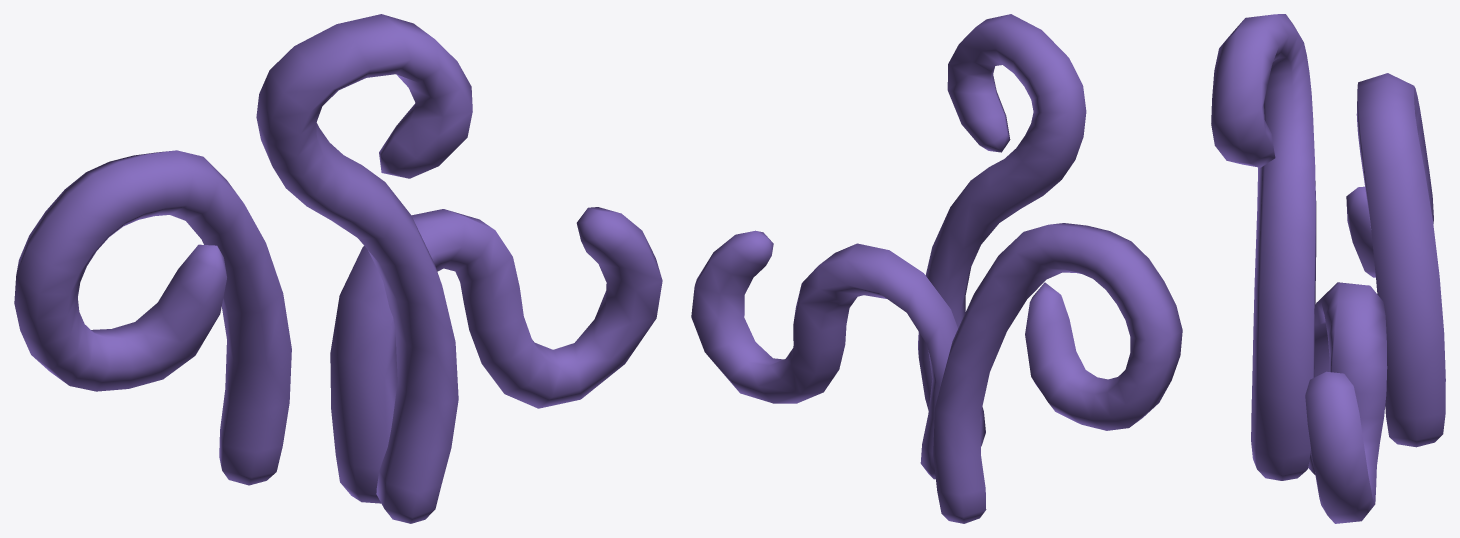
File: Spiroots_03.fbx
3 renders of one model, left to right at view 1: azimuth 30°, elevation 25°; view 2: azimuth 150°, elevation 25°; view 3: azimuth 270°, elevation 25°, orthographic. The views are drawn at different scales.
Parts seen in each view (by area): view 1: Spiroots_03_LOD0; view 2: Spiroots_03_LOD0; view 3: Spiroots_03_LOD0.
Part boxes in pixels (x1=…): Spiroots_03_LOD0: x1=14, y1=14, x2=662, y2=523; Spiroots_03_LOD0: x1=691, y1=14, x2=1182, y2=523; Spiroots_03_LOD0: x1=1211, y1=14, x2=1445, y2=523.
Size of what is drawn, in the model's own units: 688 by 568 by 275.
